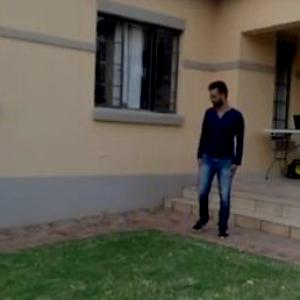follow: (192, 71, 243, 249)
